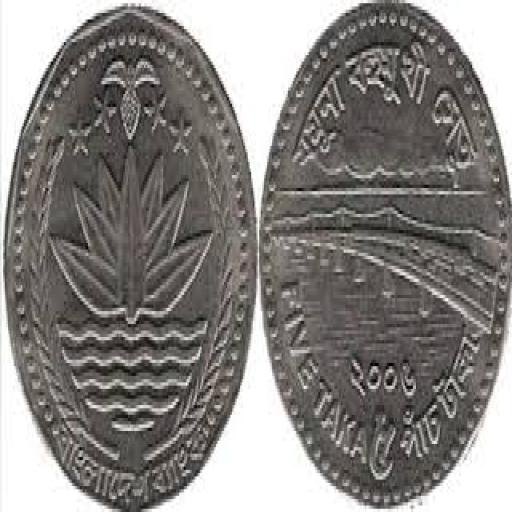5taka: (3, 6, 254, 509), (259, 3, 510, 499)
